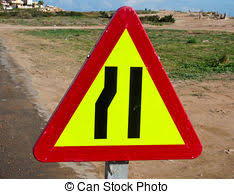Narrow_road: (32, 4, 203, 161)
